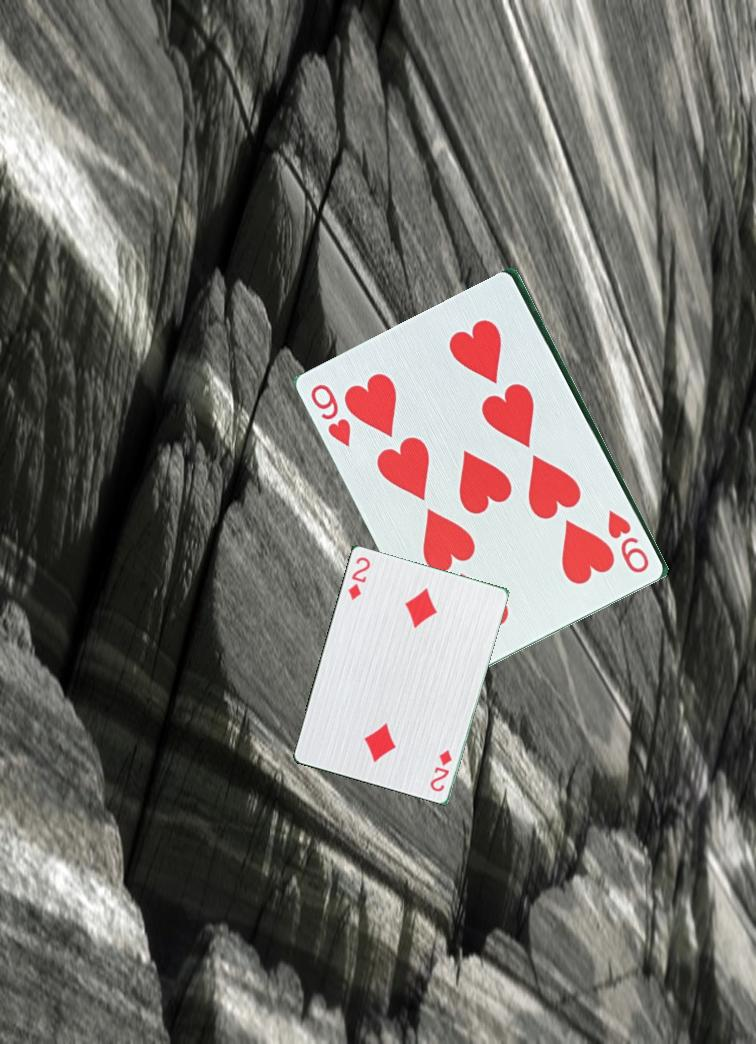2d: (424, 746, 455, 800), (345, 554, 374, 604)
9h: (307, 380, 358, 453), (604, 506, 653, 577)
